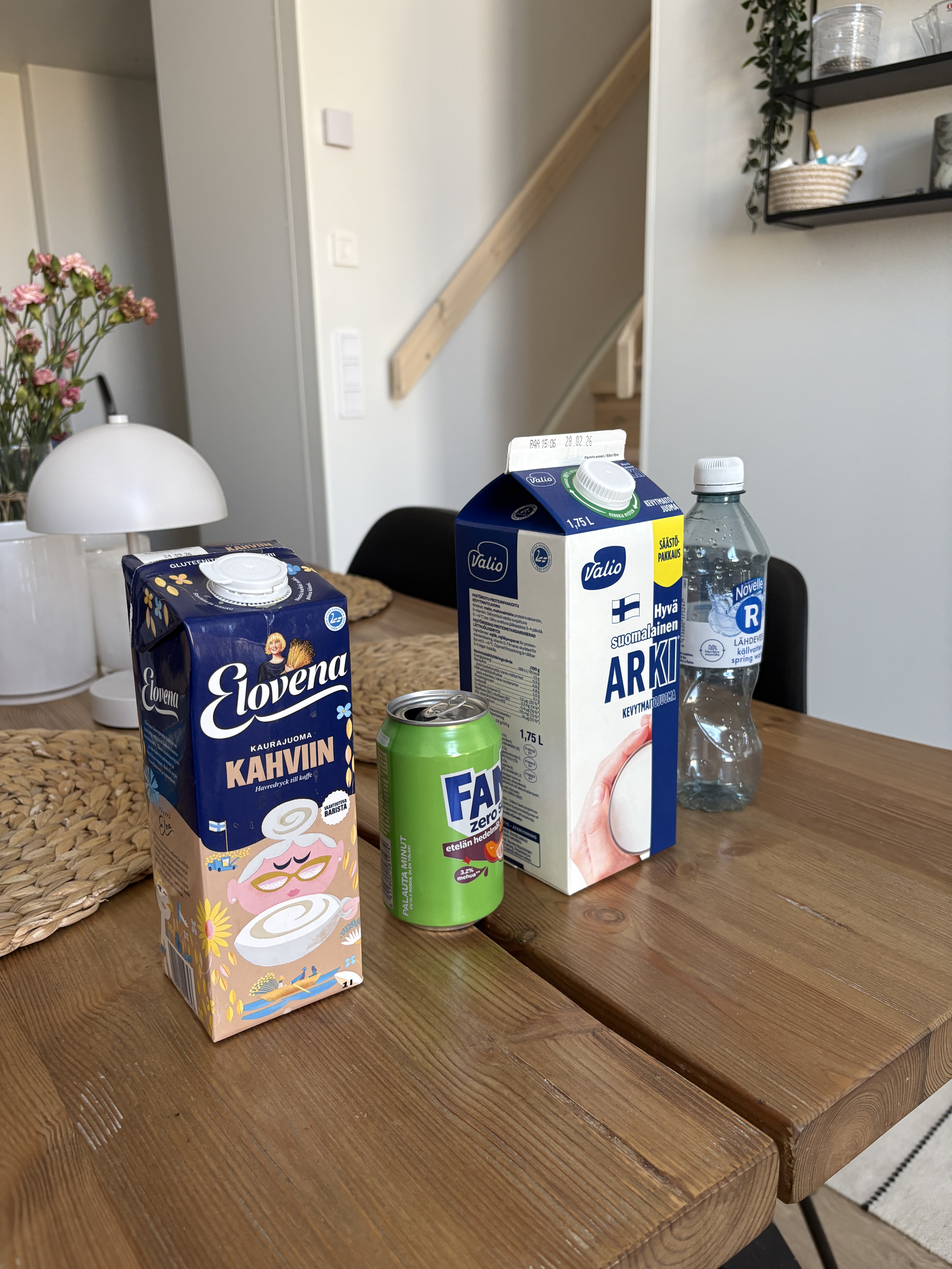Dryckeskartong: (79, 504, 379, 1060), (450, 415, 678, 657)
Pantburk: (672, 442, 783, 838), (372, 675, 521, 965)
